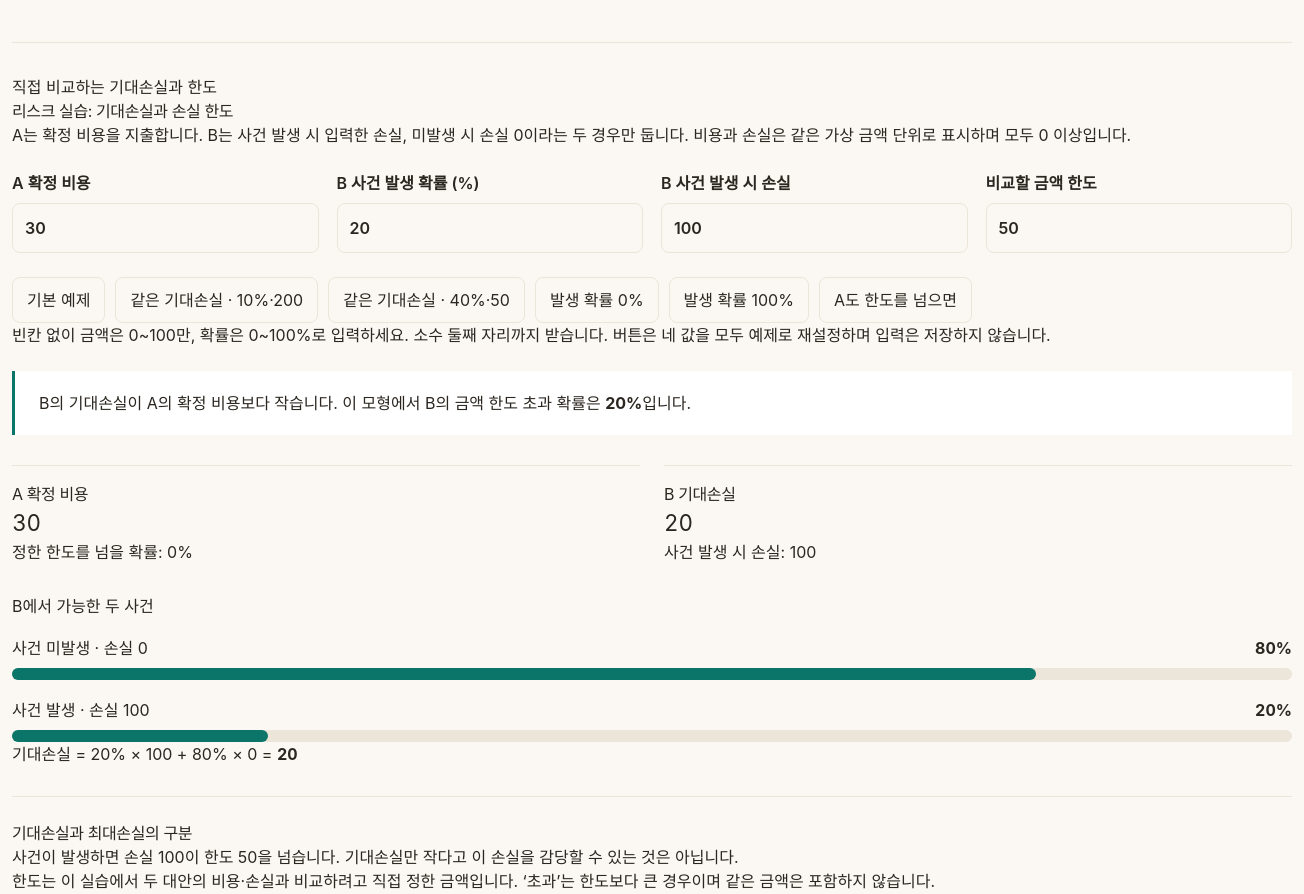
Test case: explains impossible-in-model, certain and both-over-limit cases without recommending
Click the button "발생 확률 0%".
click(597, 300)  # box [535,277,659,323]
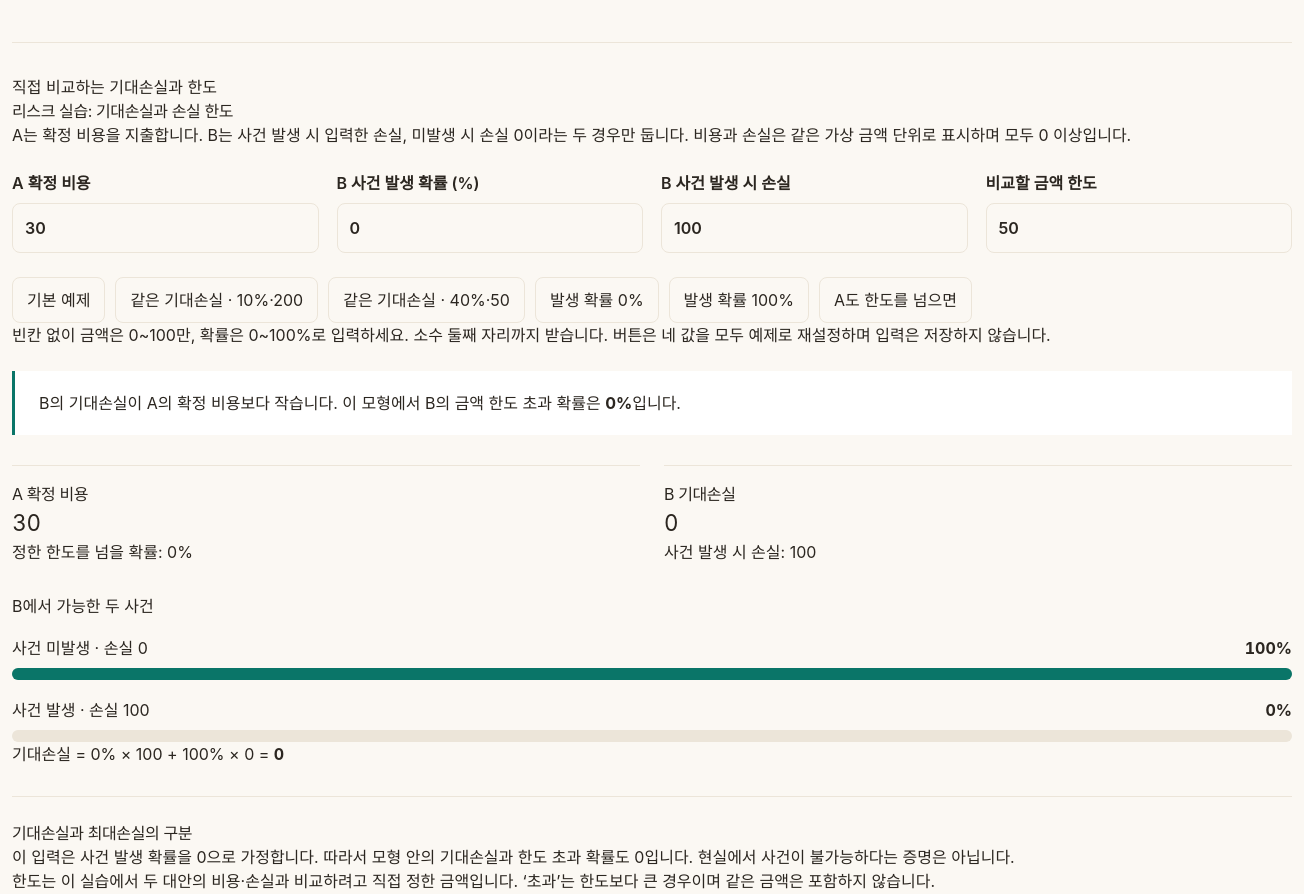
Expected: the message shows "0%", [12,371,1292,435]
Now the text "현실에서 사건이 불가능하다는 증명은 아닙니다" is shown, box [12,847,1015,867]
Click the button "발생 확률 100%".
click(739, 300)  # box [669,277,809,323]
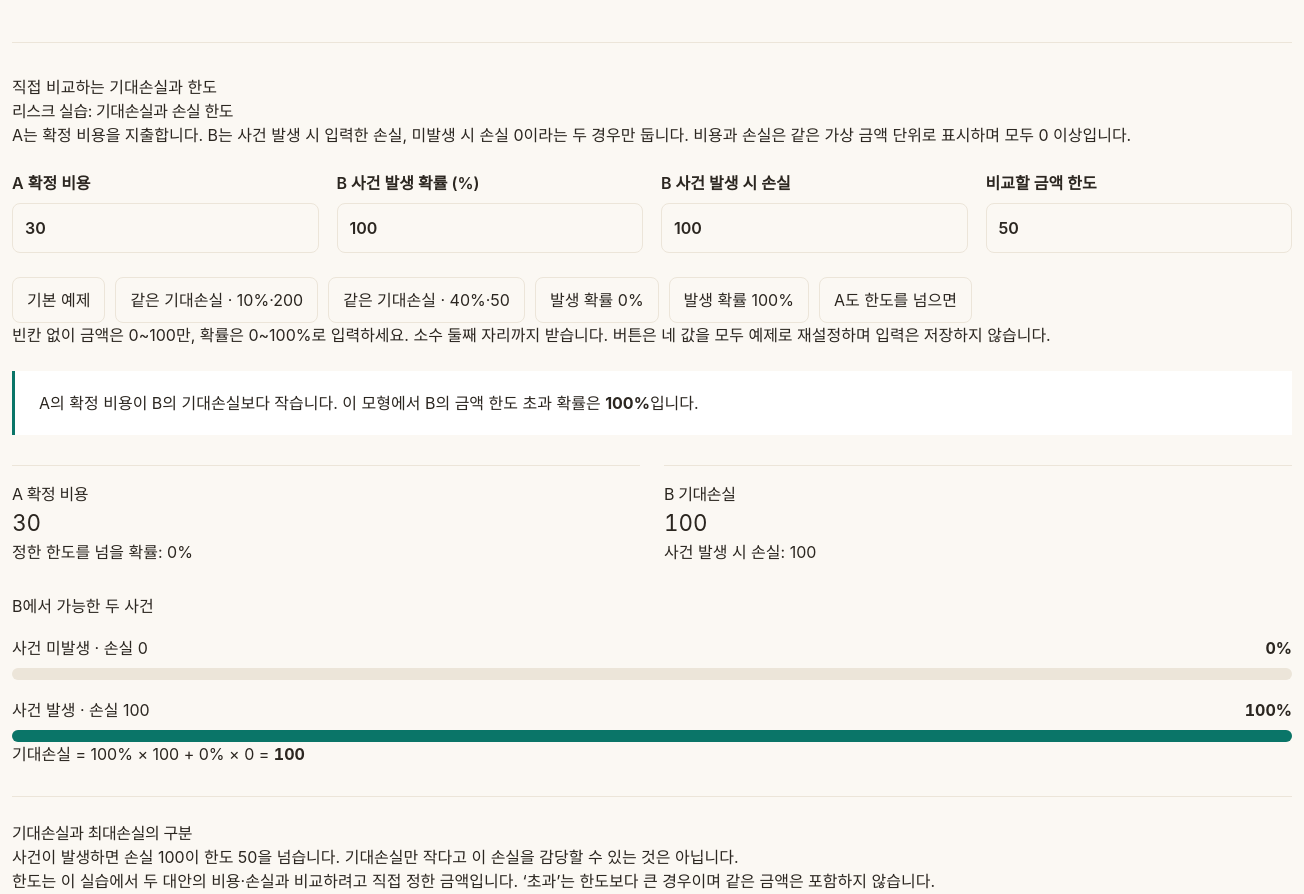
Now the message shows "100%", box [12,371,1292,435]
Click the button "A도 한도를 넘으면".
click(895, 300)  # box [819,277,972,323]
(page scrolled)
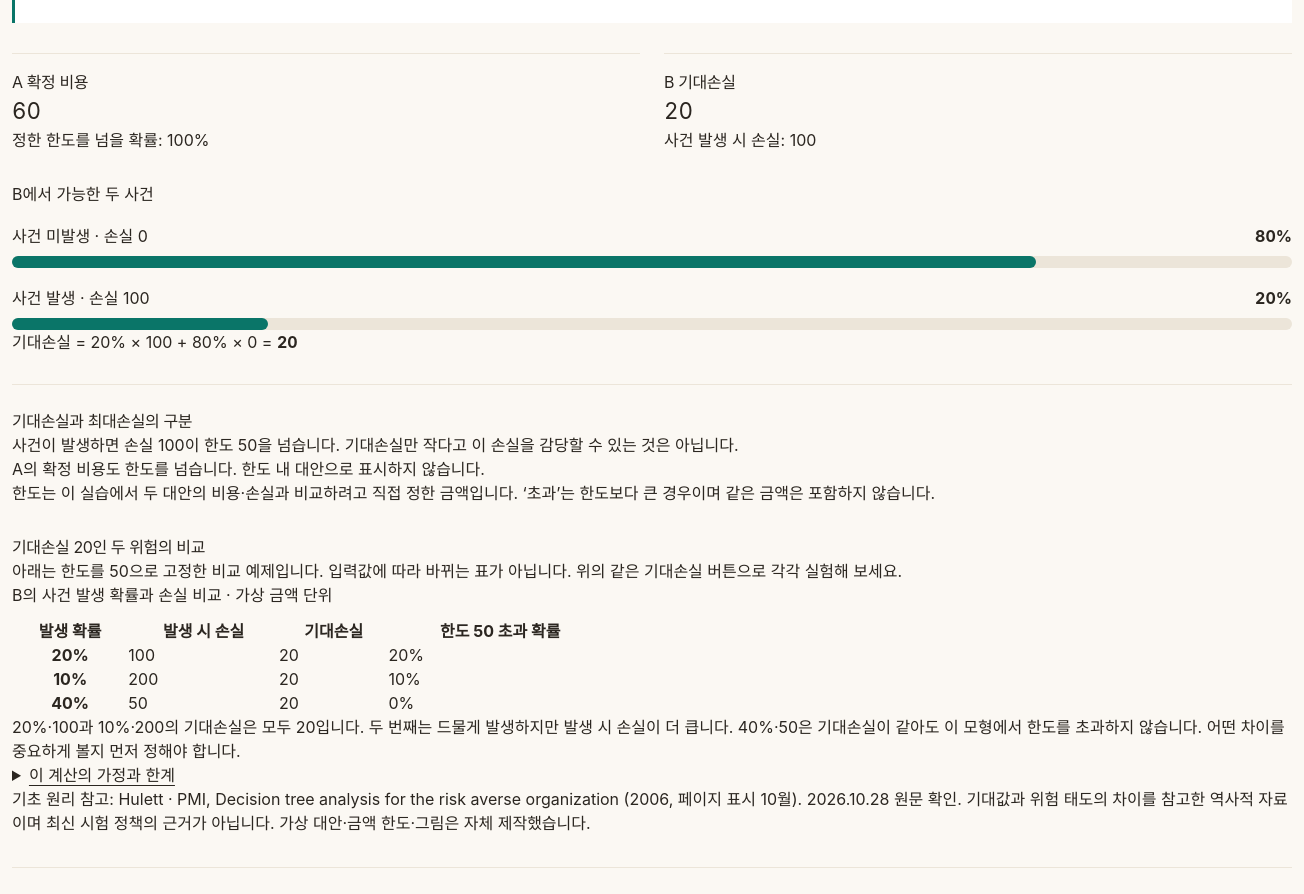
Expected: the element that starts with "기대손실과 최대손실의 구분" shows "같은 금액은 포함하지 않습니다", [12,483,935,503]
Now the text "A의 확정 비용도 한도를 넘습니다. 한도 내 대안으로 표시하지 않습니다." is shown, box [12,459,485,479]
